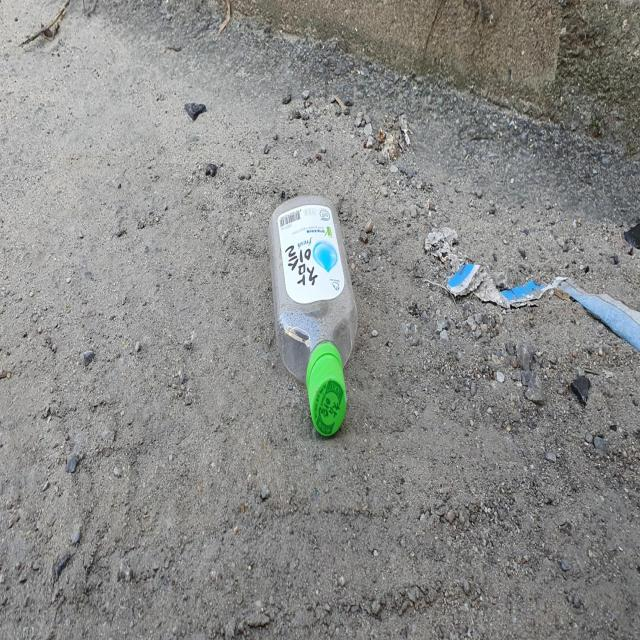plastic: (269, 194, 358, 436)
